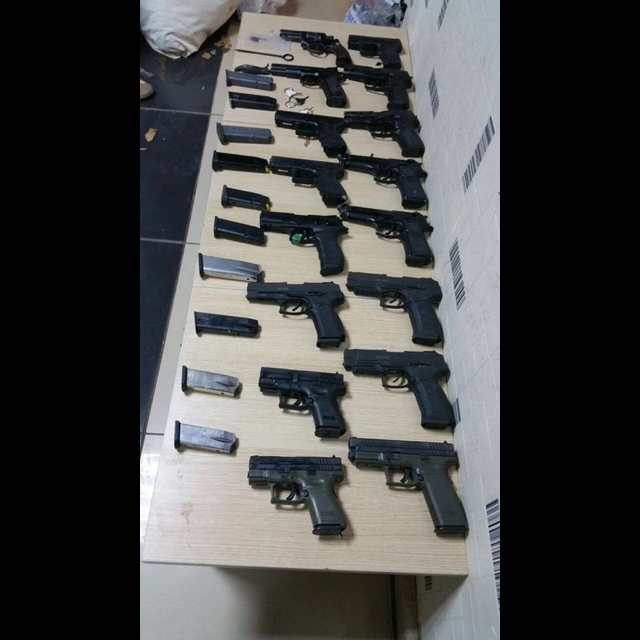SILAH: (345, 437, 472, 539), (343, 347, 458, 429), (245, 452, 348, 537), (345, 271, 450, 346), (240, 280, 349, 349), (253, 361, 347, 439), (337, 203, 442, 267), (257, 210, 345, 276), (341, 152, 434, 209), (343, 107, 428, 158), (268, 153, 349, 206), (274, 105, 347, 158), (270, 61, 348, 105), (344, 63, 420, 108)
